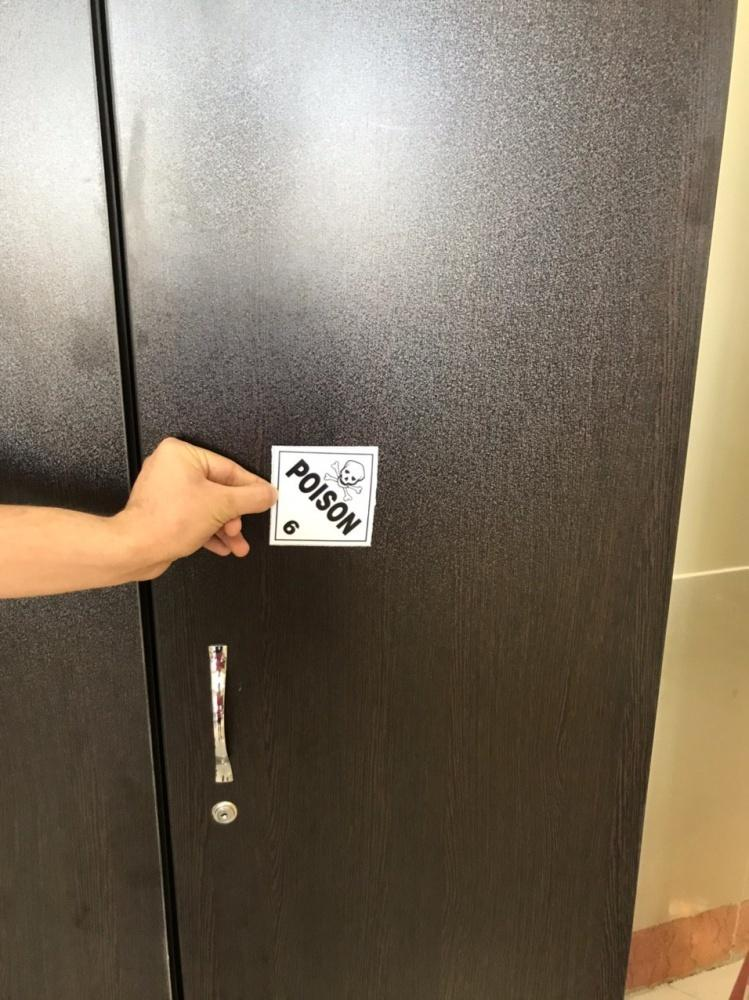poison: (268, 438, 377, 552)
